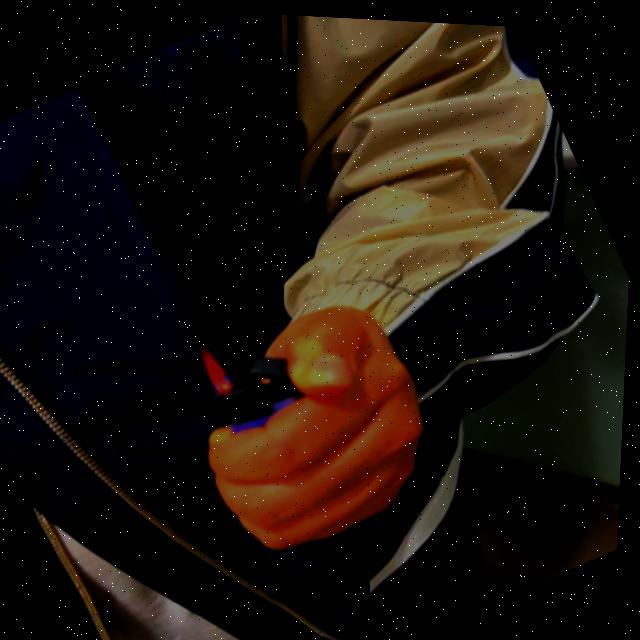Fire: (192, 330, 241, 395)
